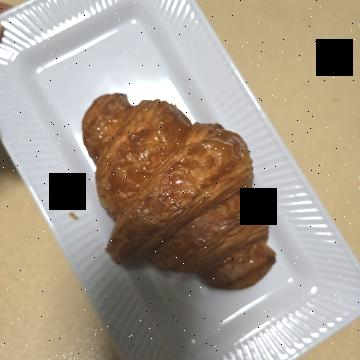croissant: (76, 71, 295, 282)
